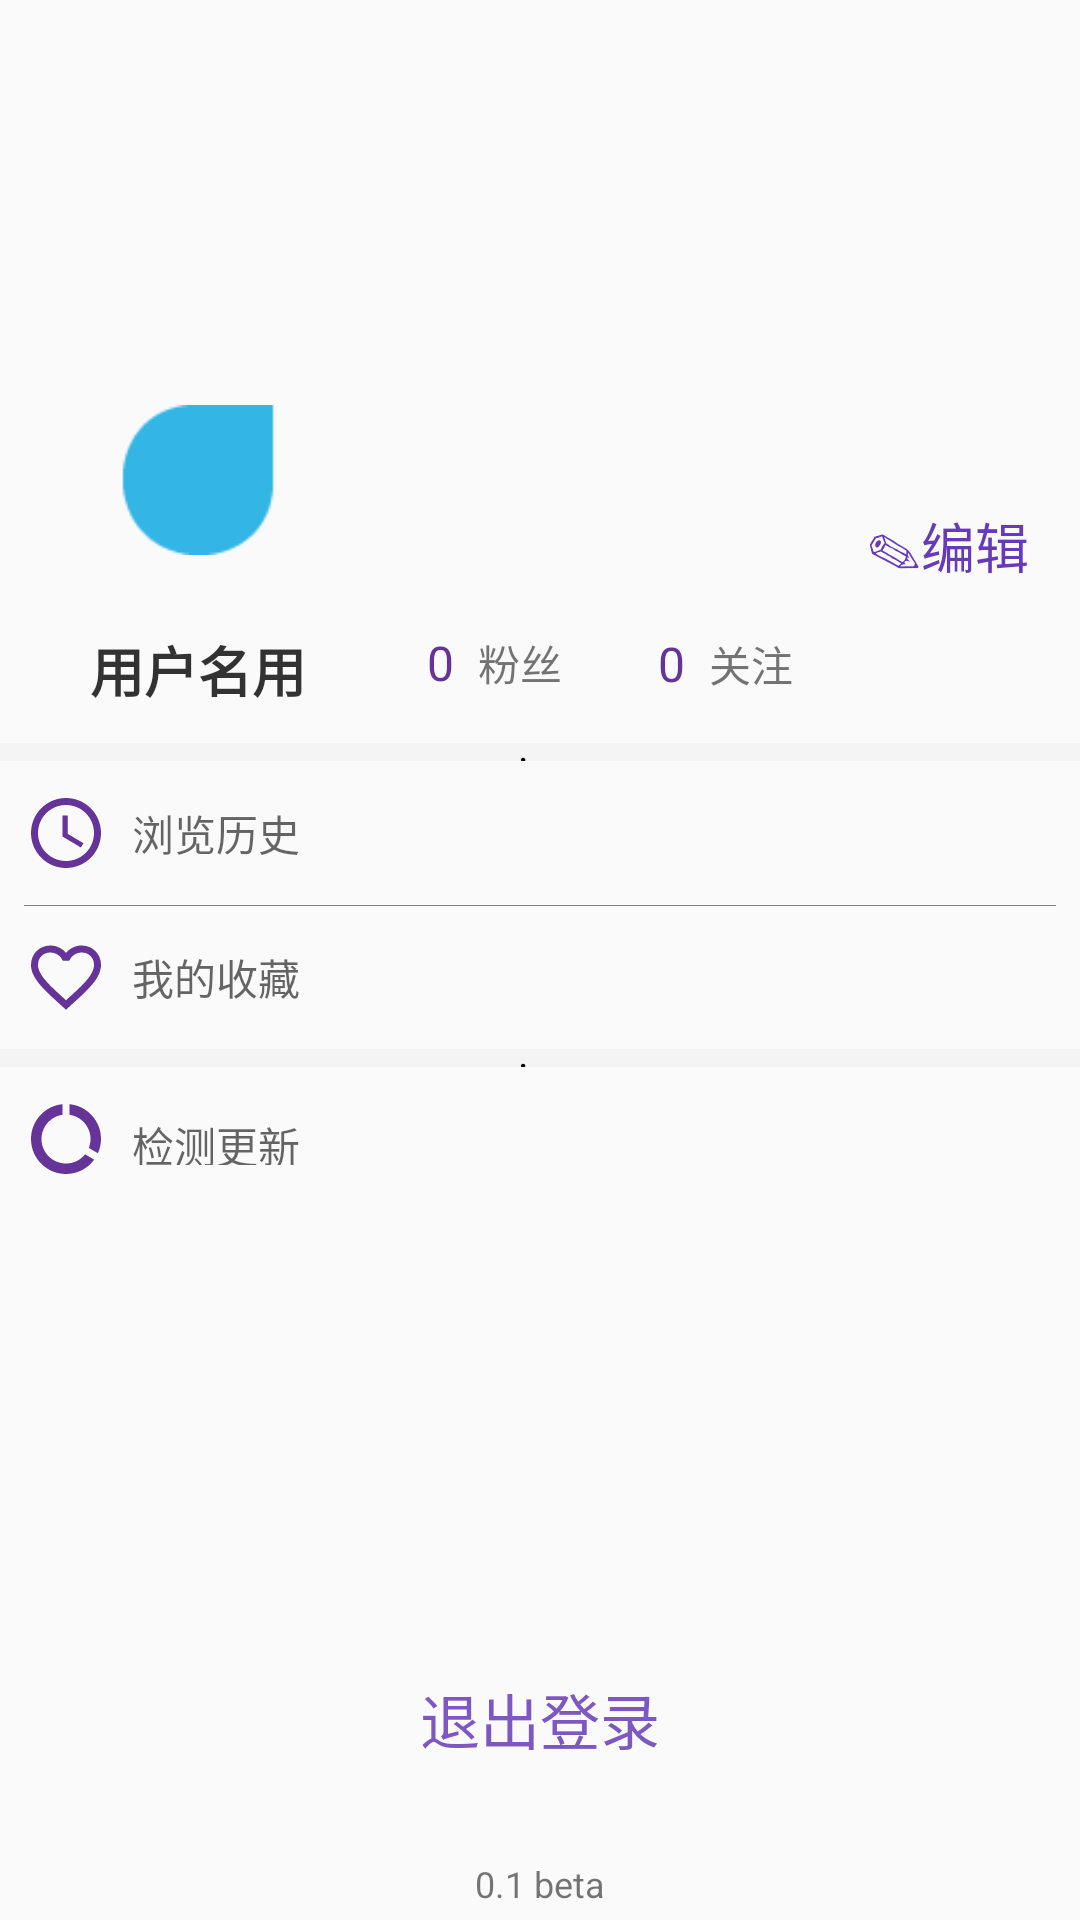

Where to tap for icons on this 1080×1920 app screen, as point (x, y):
access time: point (66, 833)
data usage: point (66, 1139)
favorite border: point (66, 977)
